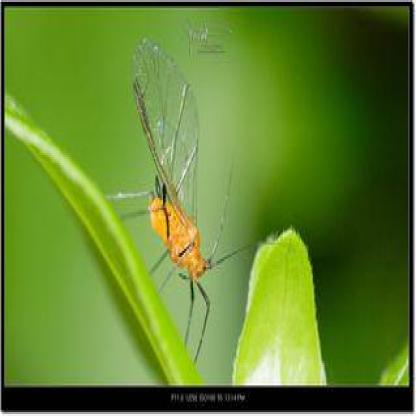aphid: (112, 28, 245, 354)
